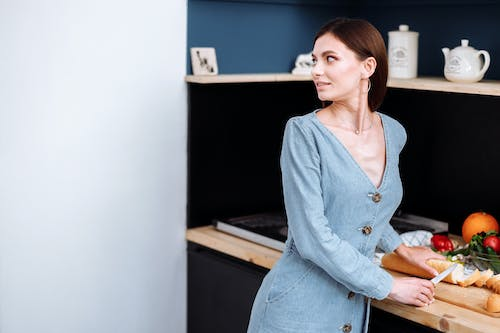knife: (428, 263, 459, 289)
